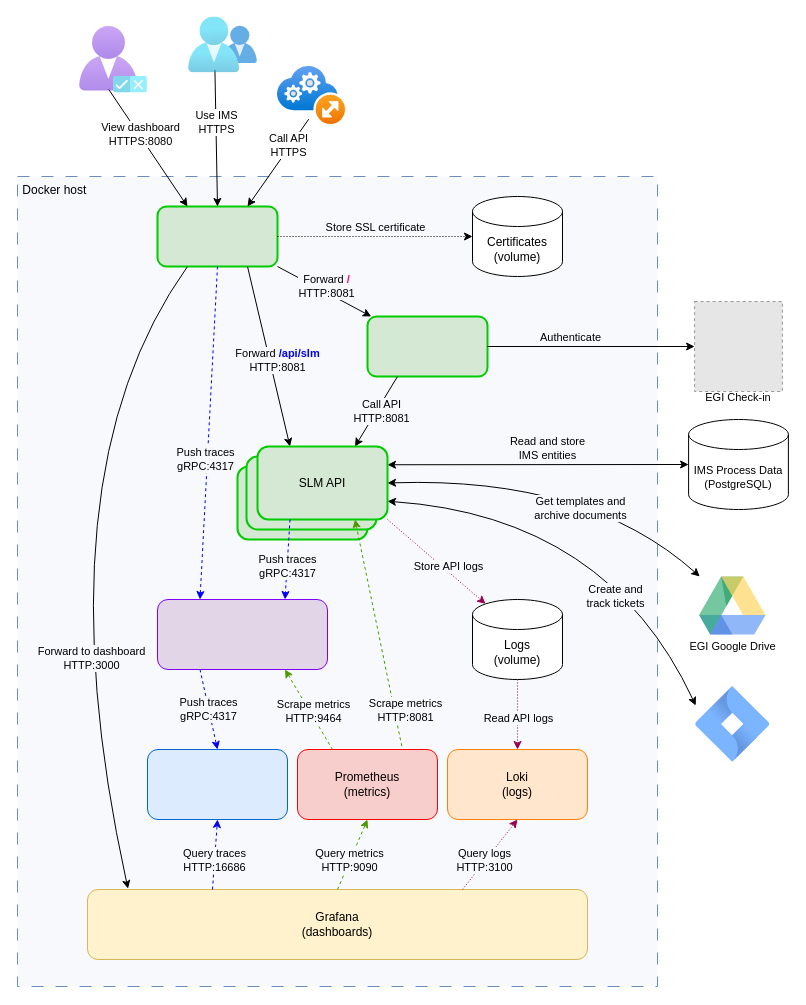
The diagram is 806 pixels wide and 1005 high, and some of its shapes have lost their labels. Grey dashed boxes stand in for pictures. The shapes that lost their labels are listed below. From the top down, each one's box as (x1, y1, x2, y2) in pixels, then its label:
(156, 205, 278, 267): SSL terminator
(366, 315, 488, 377): Frontend
(156, 598, 328, 670): OpenTelemetry collector
(695, 686, 769, 762): EGI Jira
(146, 748, 288, 820): Jaeger (traces)
